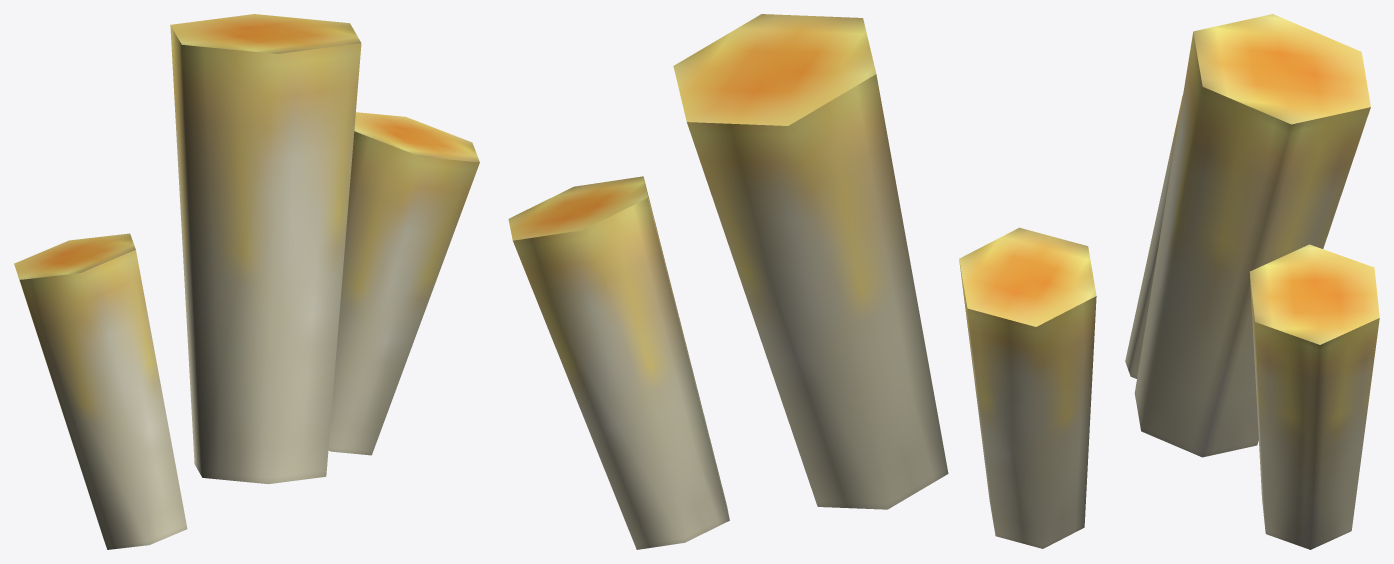
The model's file is Area08_25.fbx.
The picture shows the model from 3 angles, left to right: view 1: azimuth 30°, elevation 25°; view 2: azimuth 150°, elevation 25°; view 3: azimuth 270°, elevation 25°; orthographic projection. The views are drawn at different scales.
Visible parts, largest first — view 1: Area08_25; view 2: Area08_25; view 3: Area08_25.
Part boxes in pixels (x1,y1,x2,y2): Area08_25: [14, 14, 479, 549]; Area08_25: [508, 14, 1096, 549]; Area08_25: [1125, 14, 1379, 549].
Size of the model in its own units: 53.5 by 48.18 by 24.79.
